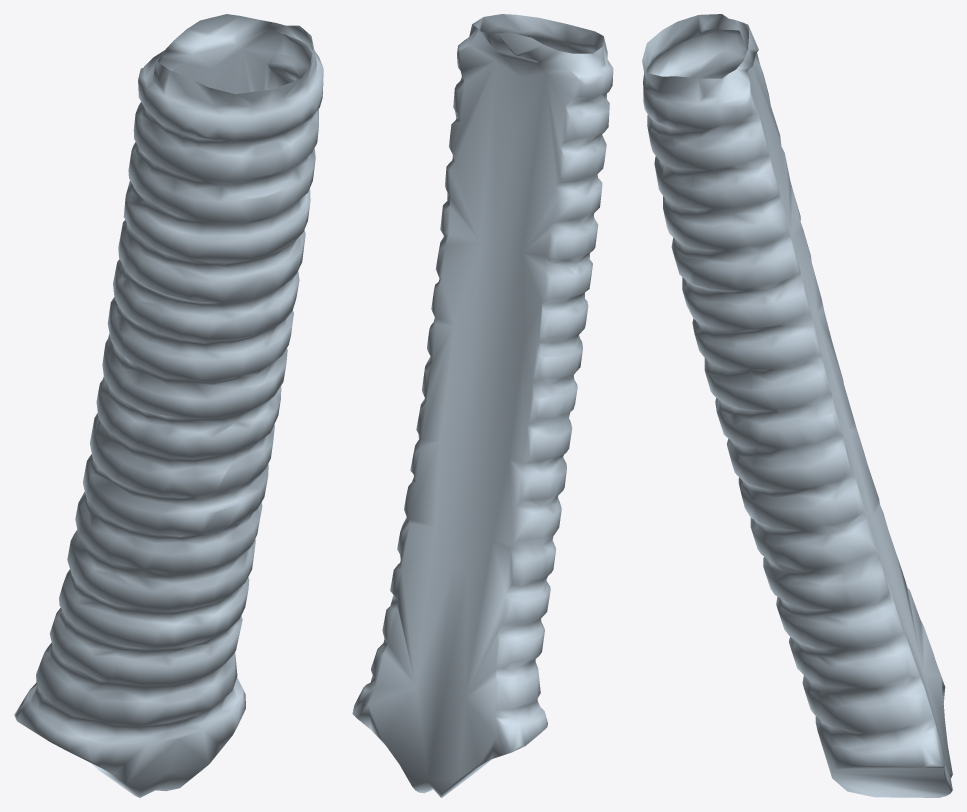
Rendered from visceras-trachea.glb.
3 views of the same model, side by side, from view 1: azimuth 30°, elevation 25°; view 2: azimuth 150°, elevation 25°; view 3: azimuth 270°, elevation 25° (orthographic). The views are drawn at different scales.
Parts seen in each view (by area): view 1: Trachea; view 2: Trachea; view 3: Trachea.
Boxes of the visible parts, x1,y1,x2,y2 form: Trachea: (14, 14, 323, 797); Trachea: (352, 14, 613, 797); Trachea: (642, 14, 952, 797).
Bounding box in the file's own units: 0.0272 × 0.1054 × 0.039.
